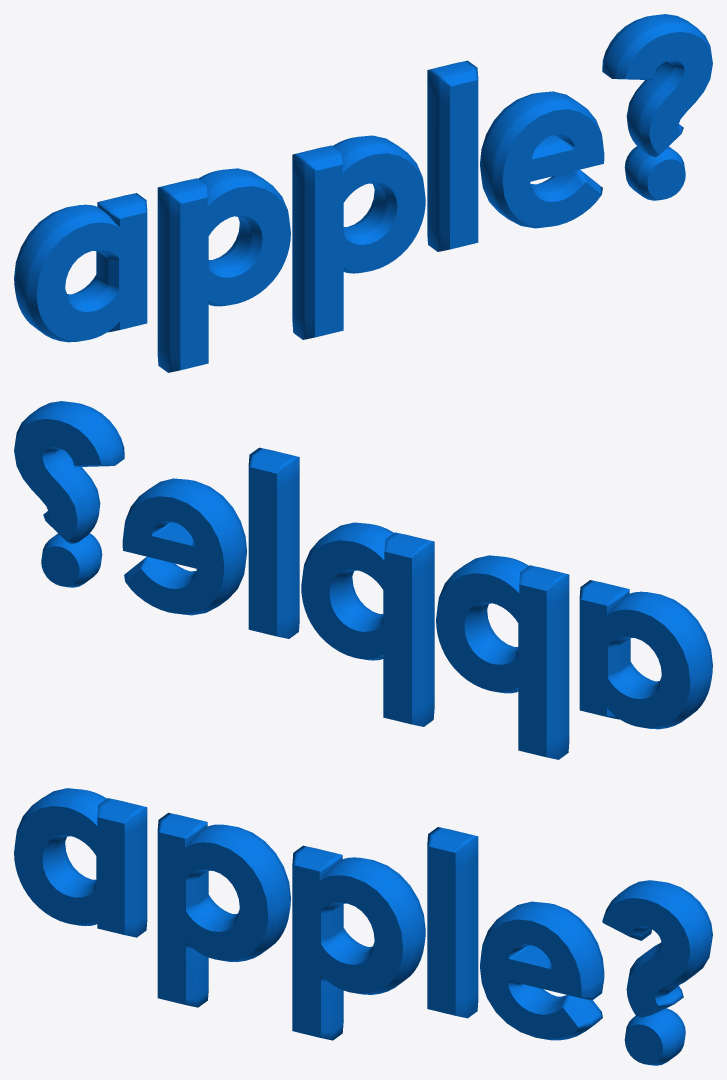
File: apple_.fbx
The picture shows the model from 3 angles, top to bottom: view 1: azimuth 30°, elevation 25°; view 2: azimuth 150°, elevation 25°; view 3: azimuth 330°, elevation 25°; orthographic projection.
Parts seen in each view (by area): view 1: bevelPolygon2, bevelPolygon3, bevelPolygon1, bevelPolygon5, bevelPolygon6, bevelPolygon4, bevelPolygon7; view 2: bevelPolygon2, bevelPolygon3, bevelPolygon1, bevelPolygon5, bevelPolygon6, bevelPolygon4, bevelPolygon7; view 3: bevelPolygon2, bevelPolygon3, bevelPolygon1, bevelPolygon5, bevelPolygon4, bevelPolygon6, bevelPolygon7.
Part boxes in pixels (x1,y1,x2,y2): bevelPolygon2: (157,168,290,372); bevelPolygon3: (292,135,425,339); bevelPolygon1: (14,193,147,342); bevelPolygon5: (480,91,604,228); bevelPolygon6: (602,14,712,156); bevelPolygon4: (427,60,478,251); bevelPolygon7: (624,146,685,200); bevelPolygon2: (436,555,569,759); bevelPolygon3: (301,522,434,726); bevelPolygon1: (579,580,712,729); bevelPolygon5: (122,478,246,615); bevelPolygon6: (14,401,124,543); bevelPolygon4: (248,447,299,638); bevelPolygon7: (41,533,102,587); bevelPolygon2: (157,812,290,1007); bevelPolygon3: (292,845,425,1040); bevelPolygon1: (14,788,147,937); bevelPolygon5: (480,901,604,1040); bevelPolygon4: (427,827,478,1018); bevelPolygon6: (602,880,712,1018); bevelPolygon7: (624,1008,685,1065).
Size of the model in its own units: 12.22 by 3.9 by 0.7.
